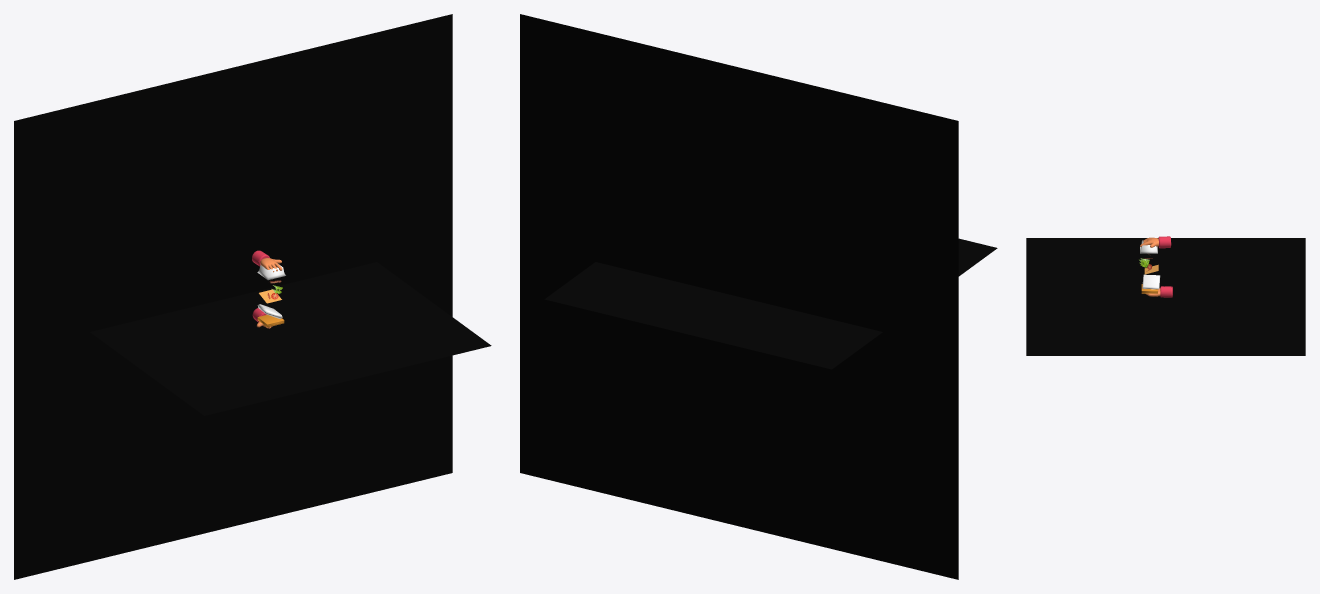
Rendered from asset.glb.
3 views of the same model, side by side, from view 1: azimuth 30°, elevation 25°; view 2: azimuth 150°, elevation 25°; view 3: azimuth 270°, elevation 25° (orthographic). The views are drawn at different scales.
Parts seen in each view (by area): view 1: wall, Plane.001; view 2: wall, Plane.001; view 3: Plane.001.
Part boxes in pixels (x1,y1,x2,y2): wall: [14, 14, 452, 579]; Plane.001: [90, 262, 491, 415]; wall: [520, 14, 958, 579]; Plane.001: [544, 238, 997, 369]; Plane.001: [1026, 238, 1305, 355].
Bounding box in the file's own units: 57.41 × 57.41 × 37.64.
11 materials, 3 textured.
